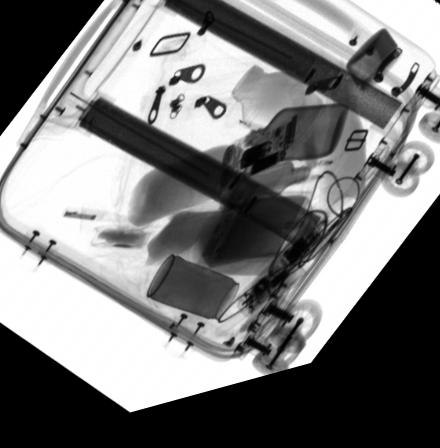Powerbank: (197, 208, 312, 274)
